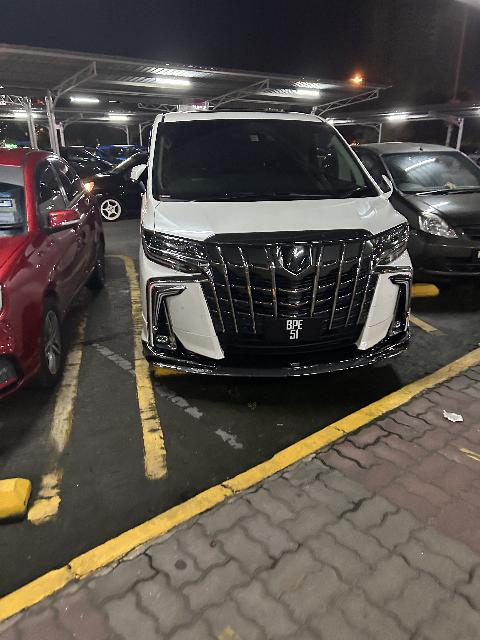License_Plate: (268, 316, 327, 346)
car: (134, 112, 427, 388)
